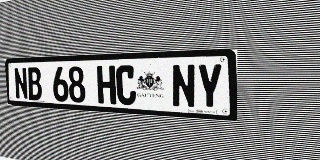6: (52, 67, 69, 102)
8: (68, 66, 86, 103)
B: (27, 67, 42, 101)
C: (116, 65, 136, 105)
H: (97, 66, 116, 104)
N: (171, 64, 196, 109), (14, 67, 28, 100)
Y: (196, 63, 223, 110)
